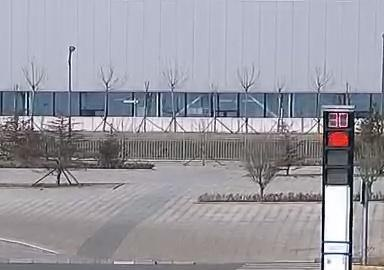red: (325, 132, 351, 145)
redtime: (327, 111, 354, 129)
